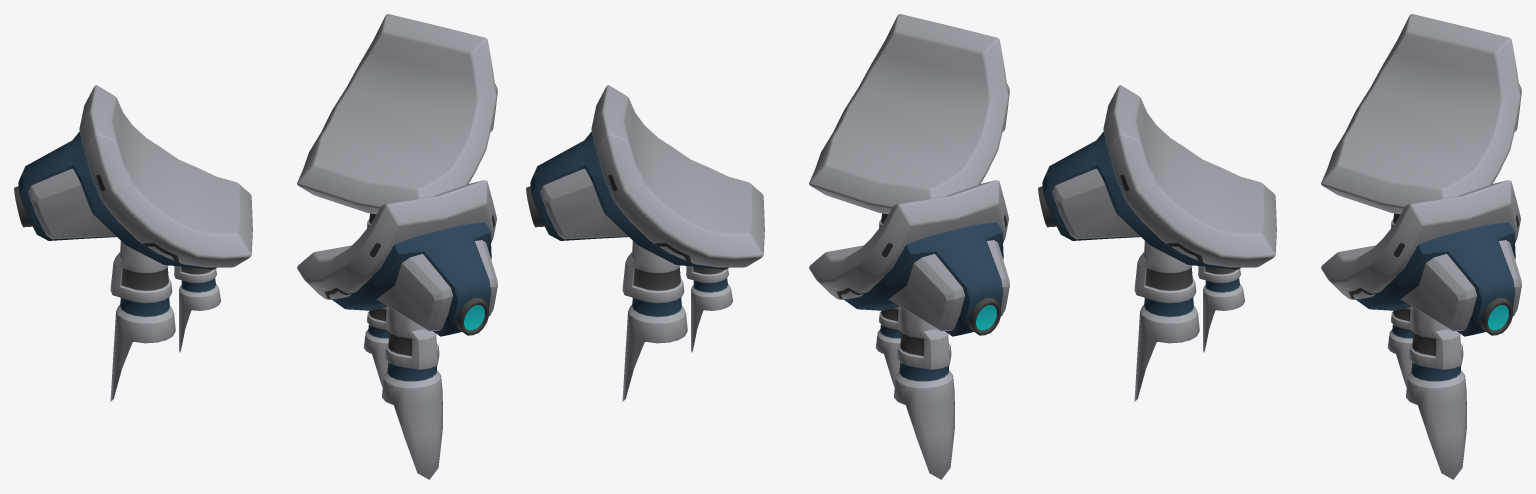
Rendered from Assist_feixingqi02.FBX.
3 renders of one model, left to right at view 1: azimuth 30°, elevation 25°; view 2: azimuth 150°, elevation 25°; view 3: azimuth 270°, elevation 25°, orthographic.
Parts seen in each view (by area): view 1: Assist_feixingqi02; view 2: Assist_feixingqi02; view 3: Assist_feixingqi02.
Part boxes in pixels (bbox=[...]): Assist_feixingqi02: bbox=[14, 14, 497, 479]; Assist_feixingqi02: bbox=[526, 14, 1009, 479]; Assist_feixingqi02: bbox=[1038, 14, 1521, 479].
Bounding box in the file's own units: 3.54 × 2.1 × 3.14.
Materials: 1 (1 with a texture image).
